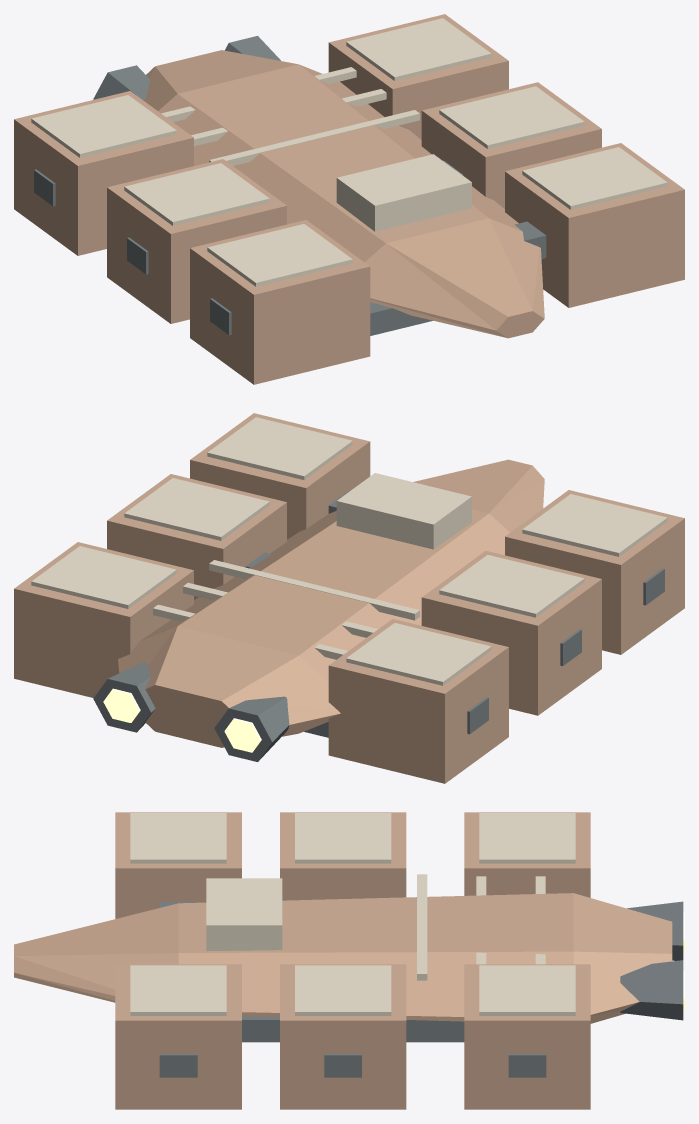
The picture shows the model from 3 angles, top to bottom: view 1: azimuth 30°, elevation 25°; view 2: azimuth 150°, elevation 25°; view 3: azimuth 270°, elevation 25°; orthographic projection.
Bounding box in the file's own units: 8.35 × 1.92 × 11.24.
